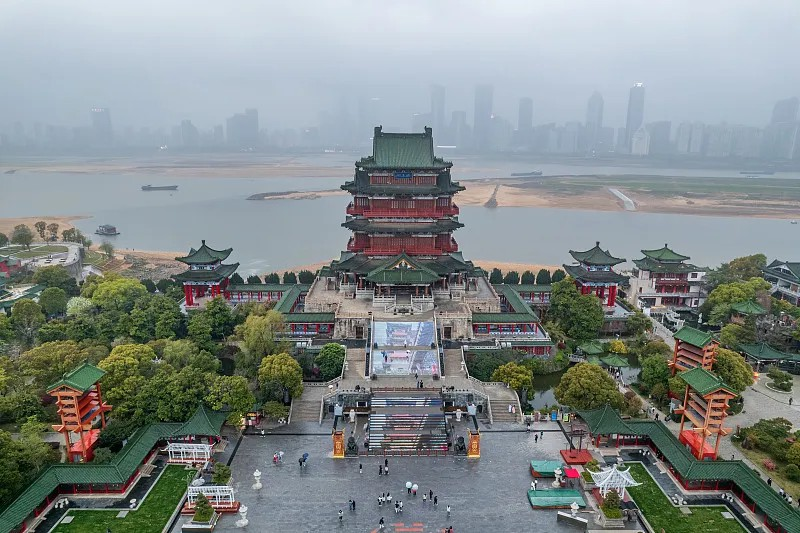Teng: (330, 125, 476, 292)
